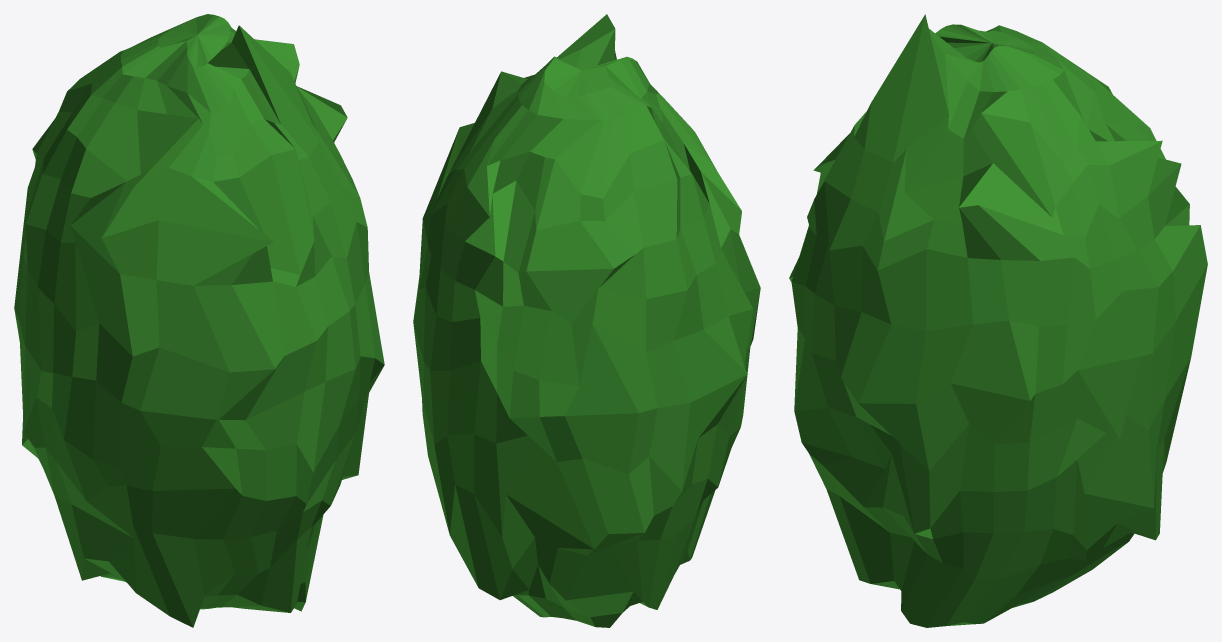
File: Bush3.fbx
3 renders of one model, left to right at view 1: azimuth 30°, elevation 25°; view 2: azimuth 150°, elevation 25°; view 3: azimuth 270°, elevation 25°, orthographic. The views are drawn at different scales.
Parts seen in each view (by area): view 1: Sphere; view 2: Sphere; view 3: Sphere.
Boxes of the visible parts, left/top/right/bottom form: Sphere: left=14, top=14, right=384, bottom=627; Sphere: left=413, top=14, right=760, bottom=627; Sphere: left=789, top=14, right=1207, bottom=627.
Bounding box in the file's own units: 320 × 564 × 366.
